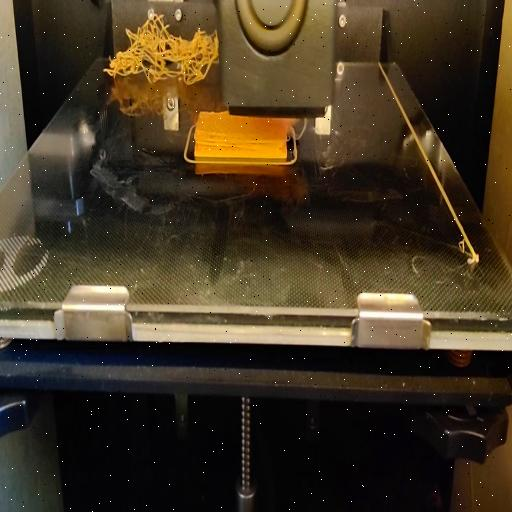spaghetti: (106, 11, 222, 89)
